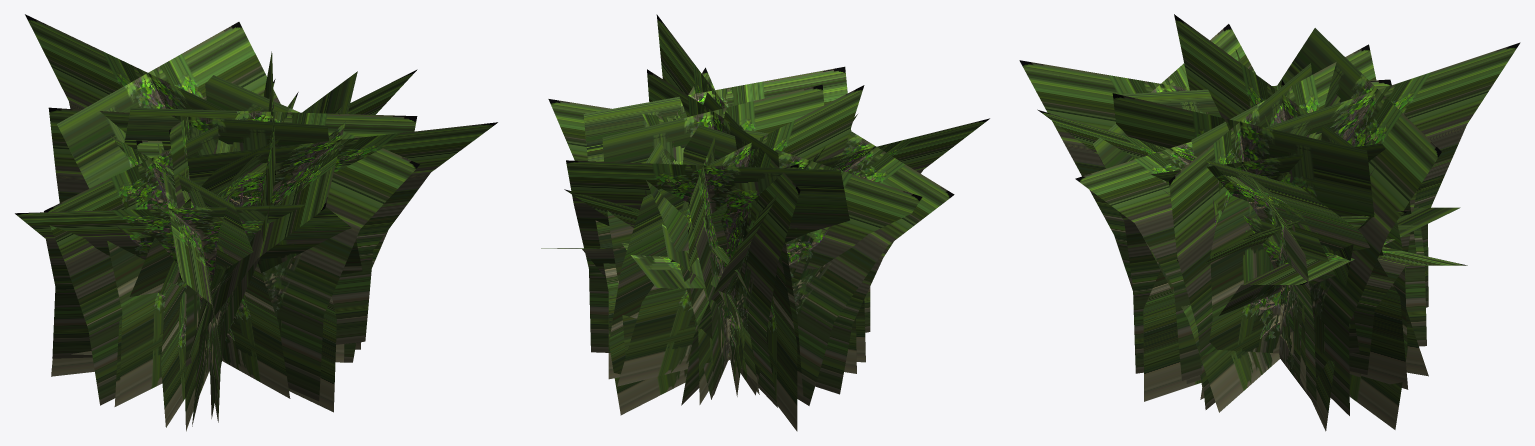
File: bush1.obj
3 views of the same model, side by side, from view 1: azimuth 30°, elevation 25°; view 2: azimuth 150°, elevation 25°; view 3: azimuth 270°, elevation 25° (orthographic). The views are drawn at different scales.
Parts seen in each view (by area): view 1: elderbush128; view 2: elderbush128; view 3: elderbush128.
Boxes of the visible parts, x1=… form: elderbush128: x1=15, y1=14, x2=497, y2=431; elderbush128: x1=541, y1=14, x2=989, y2=431; elderbush128: x1=1019, y1=14, x2=1520, y2=431.
Size of what is drawn, in the model's own units: 7.04 by 5.17 by 7.01.
